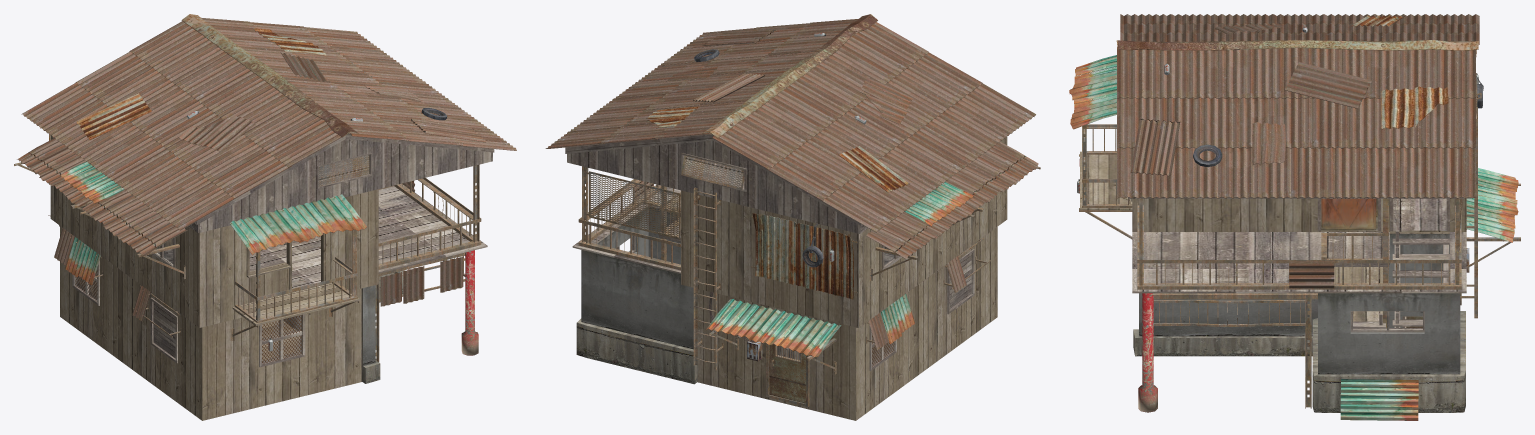
File: rusty_house.glb
3 views of the same model, side by side, from view 1: azimuth 30°, elevation 25°; view 2: azimuth 150°, elevation 25°; view 3: azimuth 270°, elevation 25° (orthographic). The views are drawn at different scales.
Parts seen in each view (by area): view 1: Zinc, WoodWall, Woods, Irons, Others, TilesGlass; view 2: Zinc, WoodWall, Others, Woods, Irons, TilesGlass; view 3: Zinc, Others, Woods, Irons, WoodWall.
Boxes of the visible parts, x1,y1,x2,y2 form: Zinc: (17, 17, 516, 321); WoodWall: (50, 135, 378, 420); Woods: (21, 133, 494, 367); Irons: (14, 162, 481, 362); Others: (181, 14, 478, 383); TilesGlass: (75, 154, 369, 363); Zinc: (545, 19, 1038, 357); WoodWall: (681, 136, 1007, 420); Others: (576, 14, 877, 384); Woods: (565, 134, 974, 371); Irons: (578, 166, 1040, 406); TilesGlass: (585, 155, 897, 366); Zinc: (1069, 14, 1518, 420); Others: (1077, 26, 1483, 412); Woods: (1080, 151, 1471, 332); Irons: (1079, 73, 1520, 408); WoodWall: (1132, 198, 1466, 327).
Bounding box in the file's own units: 11.63 × 8.2 × 11.32.
Materials: 6 (6 with a texture image).
